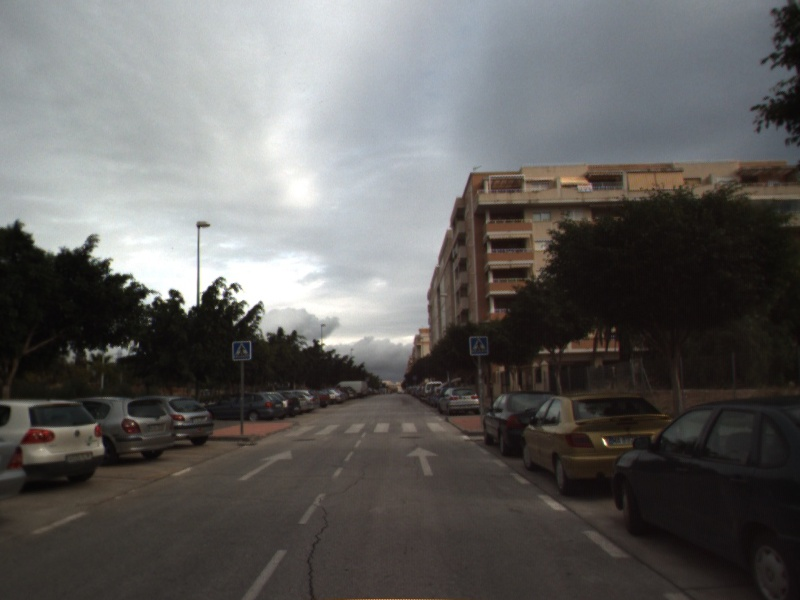STRAIGHT: (236, 448, 295, 482), (405, 445, 441, 478)
